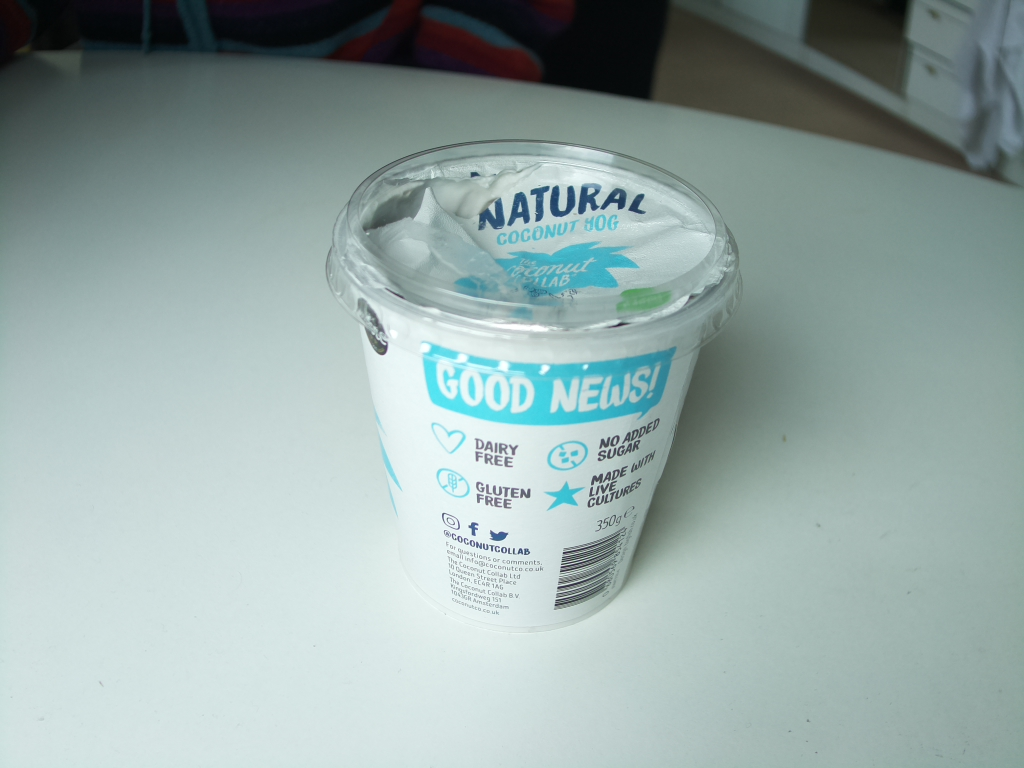yogurt: (322, 135, 749, 635)
